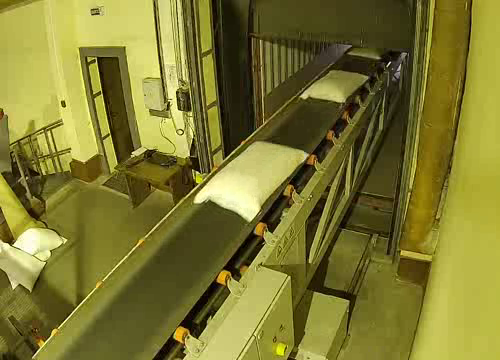bag: (185, 136, 313, 225), (297, 67, 372, 110), (345, 42, 390, 62)
